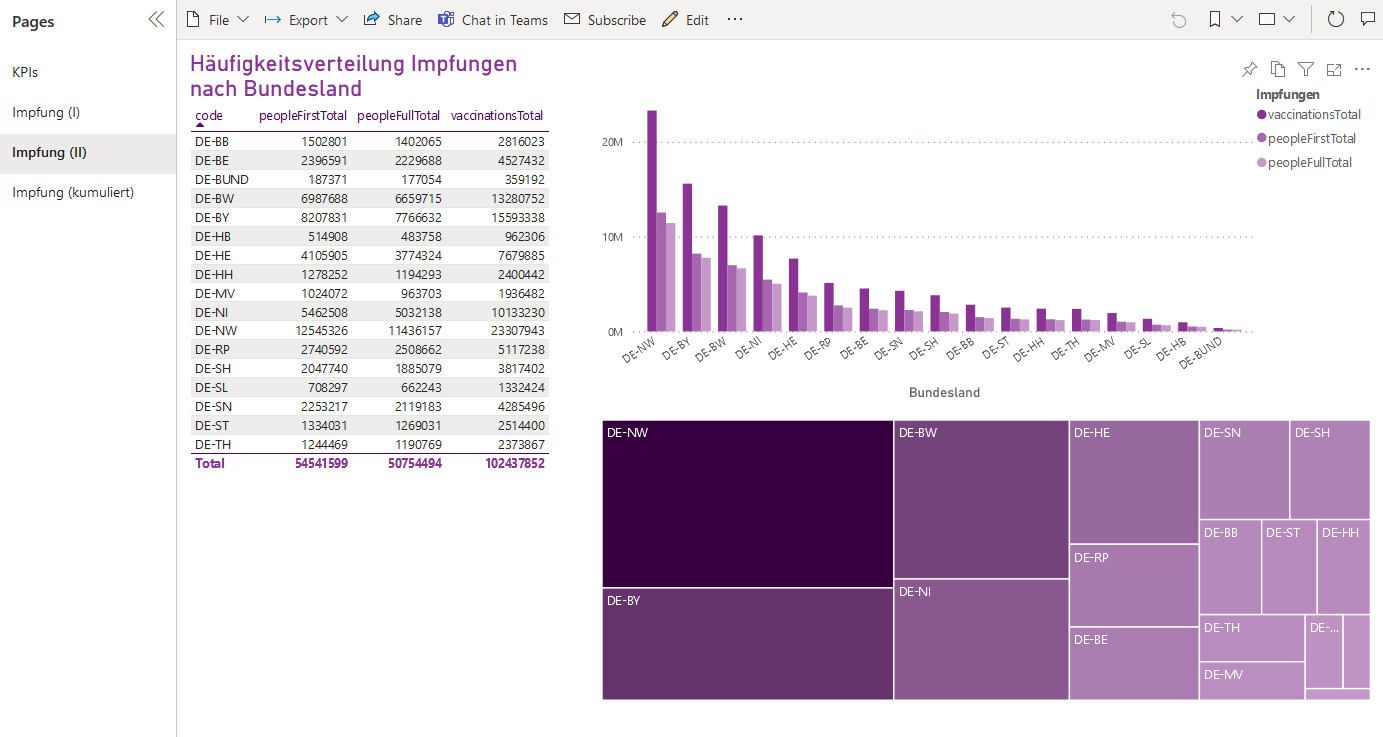

This screenshot's page, from the dashboard's own definition file:
{"tool":"powerbi","page":{"name":"Impfung (II)","canvas":[1280,720],"ordinal":2},"visuals":[{"type":"clusteredColumnChart","fields":{"Category":["germany_vaccinations_by_state.code"],"Y":["Sum(germany_vaccinations_by_state.vaccinationsTotal)","Sum(germany_vaccinations_by_state.peopleFirstTotal)","Sum(germany_vaccinations_by_state.peopleFullTotal)"]},"box":[444.1,44.2,822.9,341.6],"z":0},{"type":"tableEx","title":"Häufigkeitsverteilung Impfungen nach Bundesland","fields":{"Values":["germany_vaccinations_by_state.code","Sum(germany_vaccinations_by_state.peopleFirstTotal)","Sum(germany_vaccinations_by_state.peopleFullTotal)","Sum(germany_vaccinations_by_state.vaccinationsTotal)"]},"box":[8,12.1,411.9,512.4],"z":1000},{"type":"treemap","fields":{"Group":["germany_vaccinations_by_state.code"],"Values":["Sum(germany_vaccinations_by_state.vaccinationsTotal)"]},"box":[444.1,397.9,822.9,306.4],"z":2000}]}

Visuals, with their boxes on the page's 1280x720 design canvas (x1, y1, x2, y2). These are canvas units, not pixel positions in the 1383x737 screenshot, which may show the page scaled, cropped or inside an application window:
clusteredColumnChart - germany_vaccinations_by_state.code x Sum(germany_vaccinations_by_state.vaccinationsTotal): box=[444, 44, 1267, 386]
"Häufigkeitsverteilung Impfungen nach Bundesland" tableEx: box=[8, 12, 420, 524]
treemap - germany_vaccinations_by_state.code x Sum(germany_vaccinations_by_state.vaccinationsTotal): box=[444, 398, 1267, 704]
